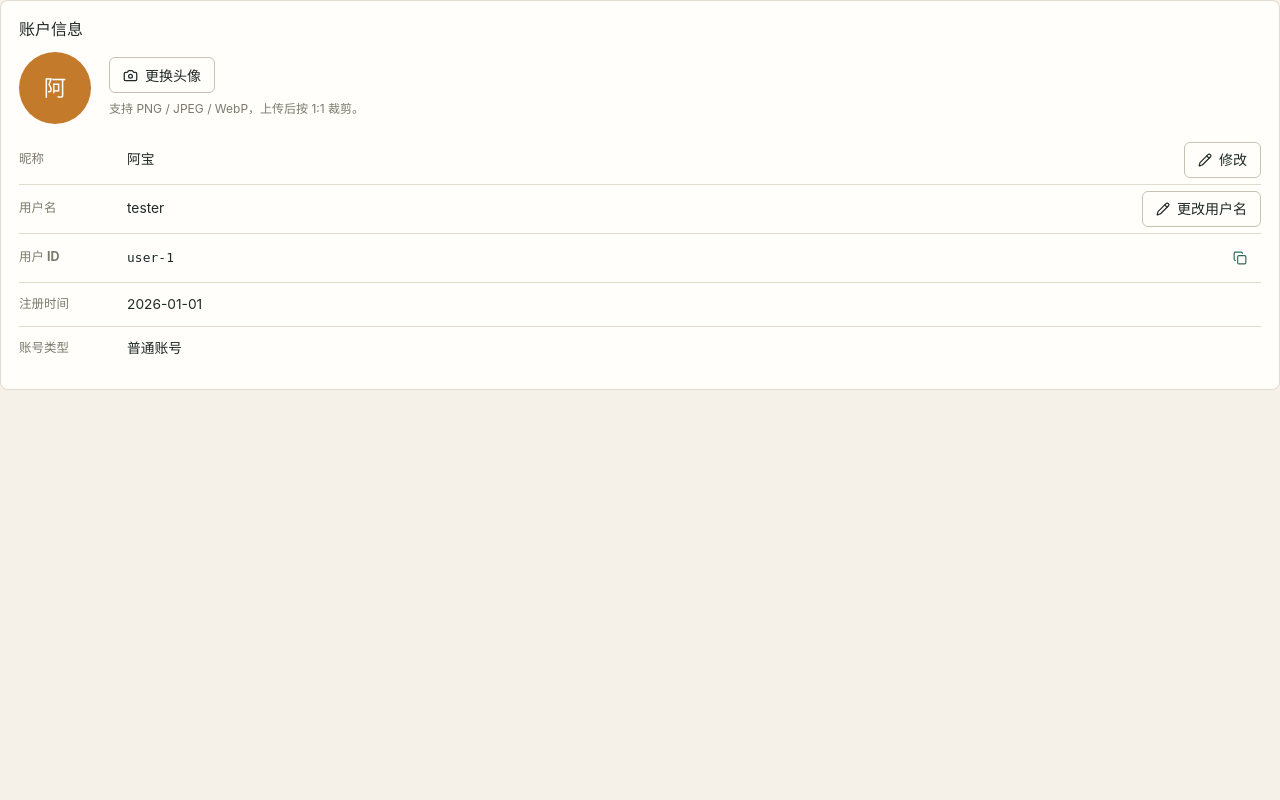
AccountSection › validates the username pattern before hitting the server
Click the button "更改用户名" at (1202, 209), box x1=1142 y1=191 x2=1261 y2=227
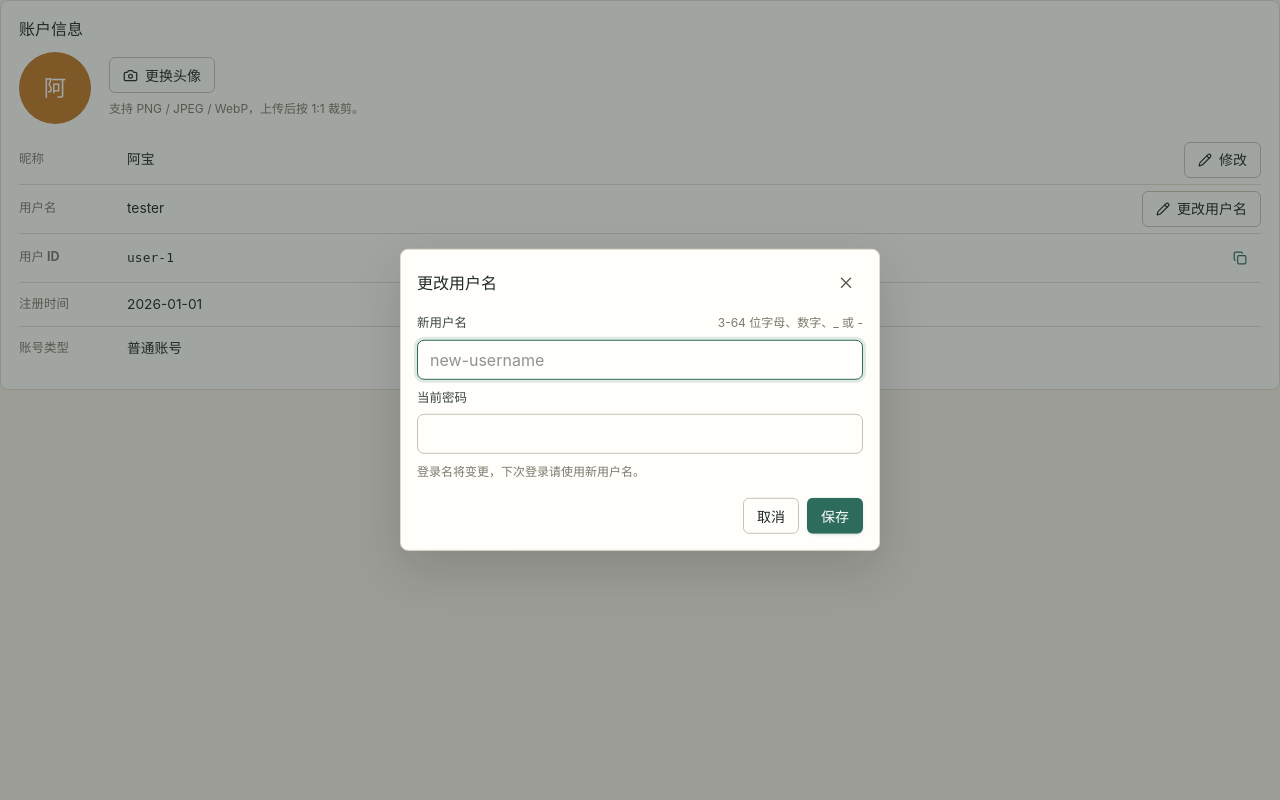
Type "ab" into the field labelled "新用户名" at (640, 360), box x1=417 y1=340 x2=863 y2=380
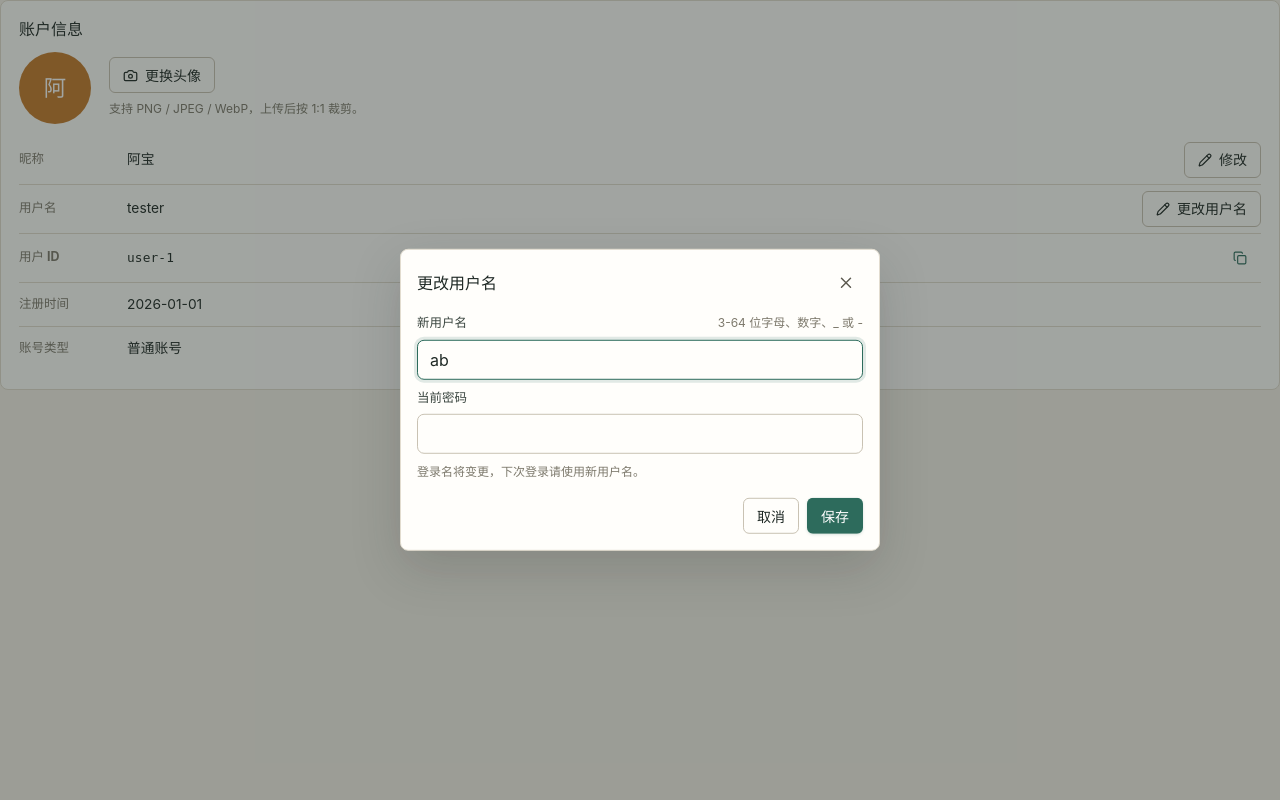
Type "secret" into the password field labelled "当前密码" at (640, 434), box x1=417 y1=414 x2=863 y2=454
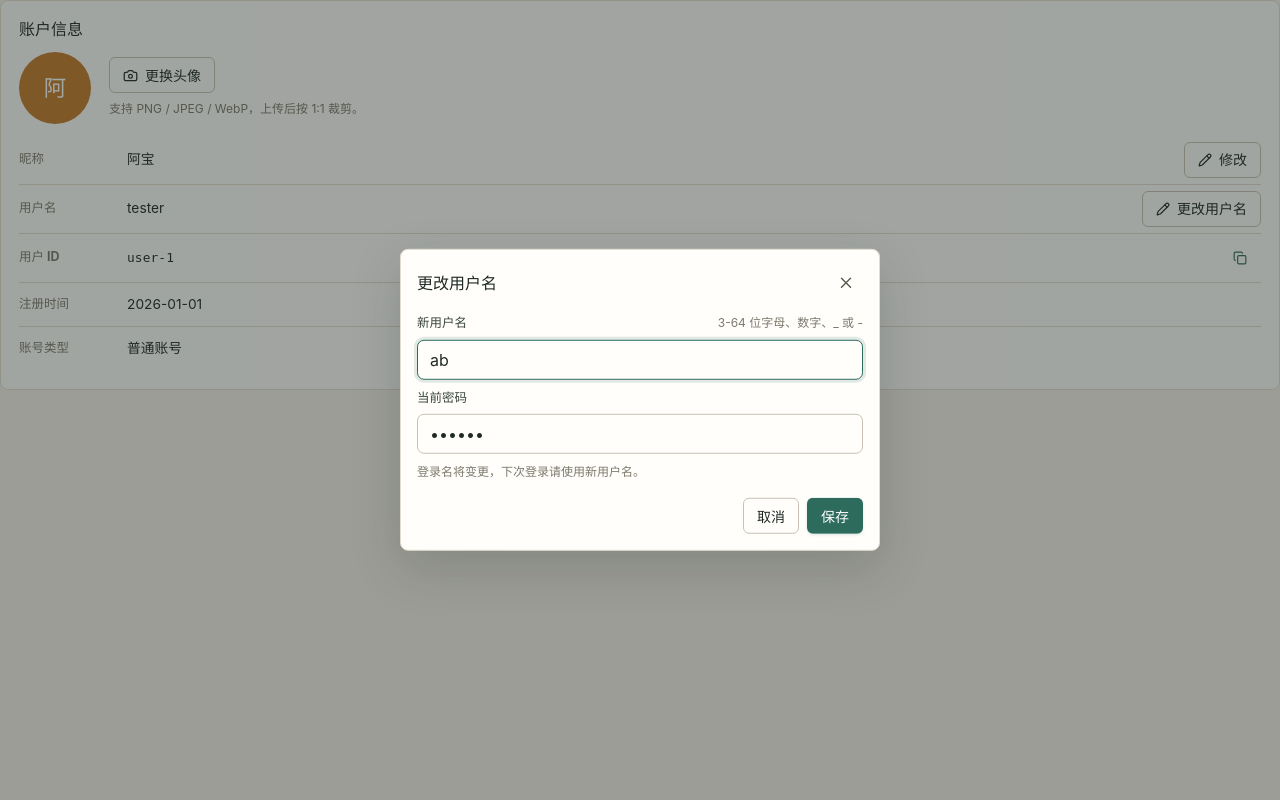
Click the button "保存" at (835, 516), box x1=807 y1=498 x2=863 y2=534
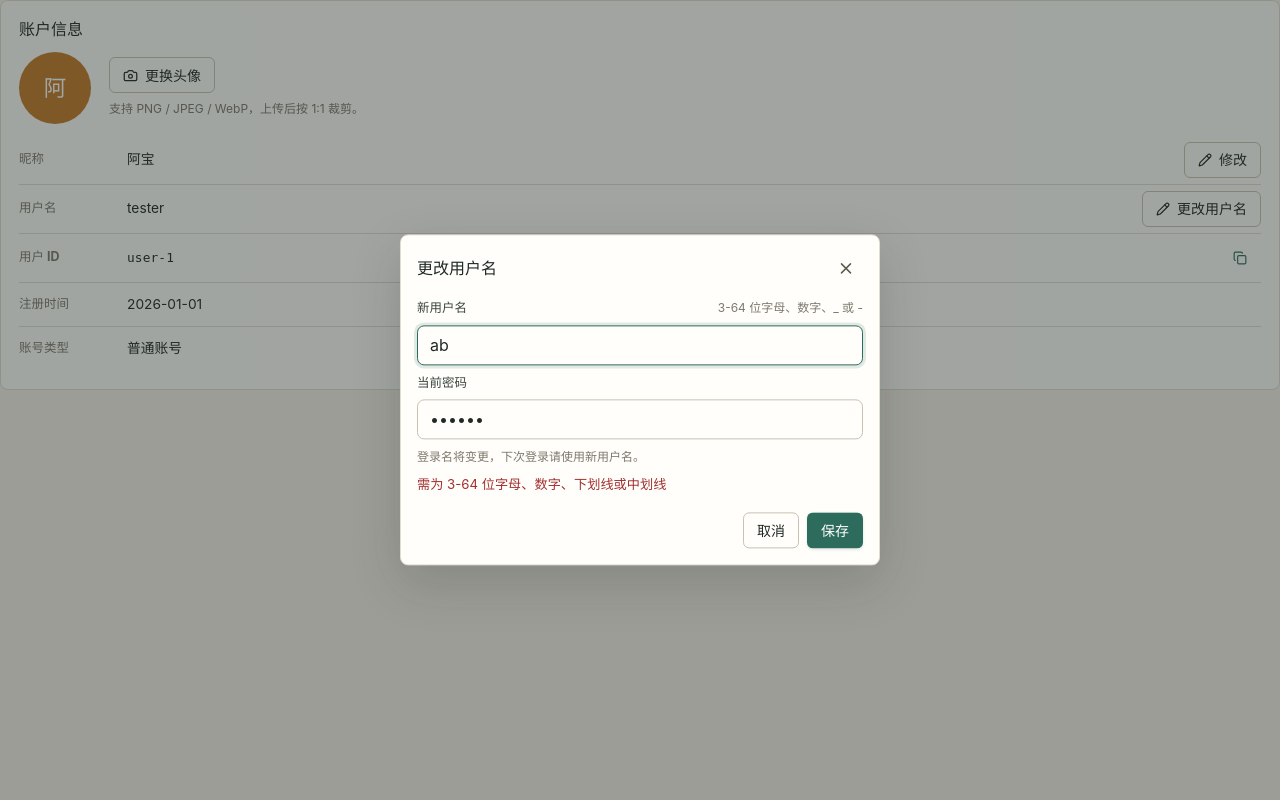
Now the message reads "需为 3-64 位字母、数字、下划线或中划线", box x1=417 y1=477 x2=666 y2=493
